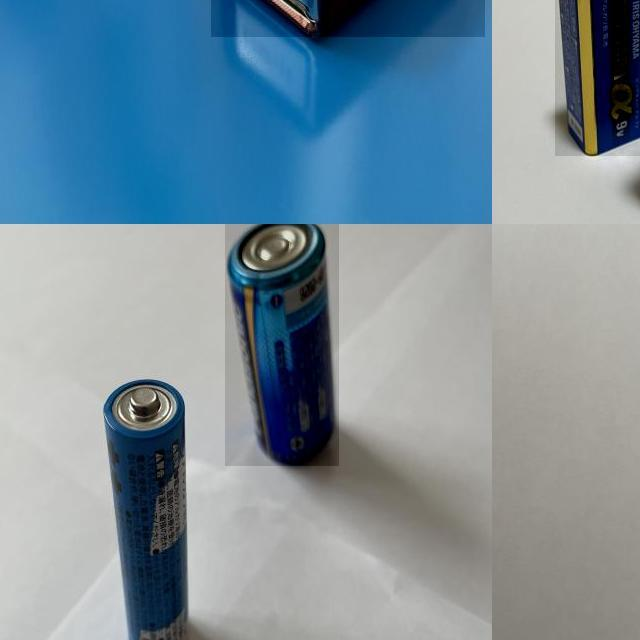9V: (555, 0, 640, 156)
